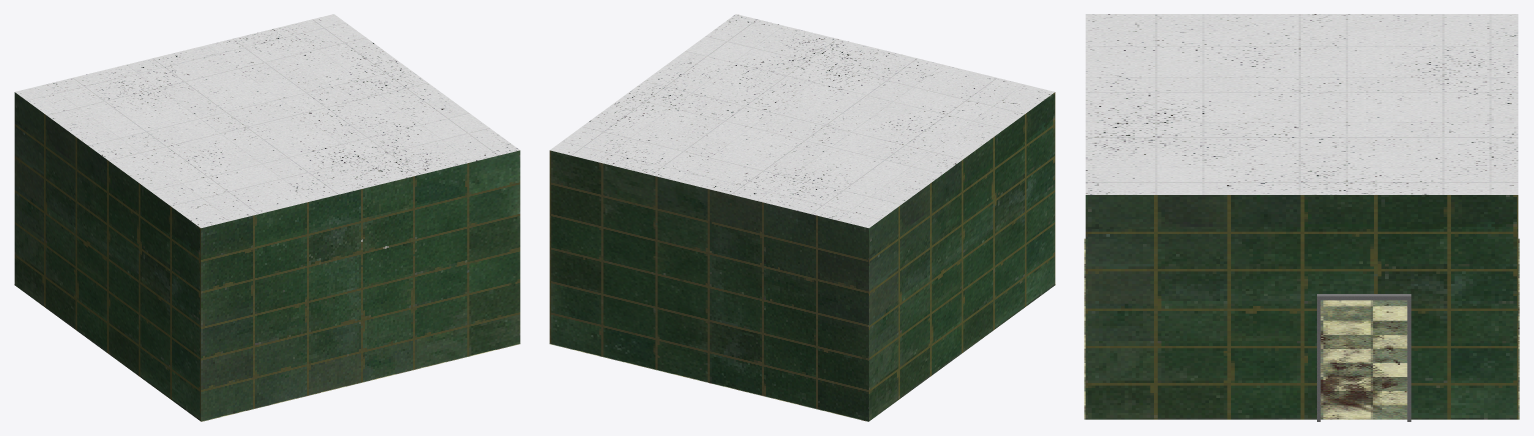
The model's file is MorgueRoom.glb.
3 views of the same model, side by side, from view 1: azimuth 30°, elevation 25°; view 2: azimuth 150°, elevation 25°; view 3: azimuth 270°, elevation 25° (orthographic). The views are drawn at different scales.
Visible parts, largest first — view 1: MorgueWalls, MorgueCieling; view 2: MorgueWalls, MorgueCieling; view 3: MorgueWalls, MorgueCieling, MorgueFloor.
Boxes of the visible parts, left/top/right/bottom form: MorgueWalls: left=14, top=92, right=520, bottom=421; MorgueCieling: left=15, top=14, right=519, bottom=227; MorgueWalls: left=549, top=92, right=1055, bottom=421; MorgueCieling: left=550, top=14, right=1054, bottom=227; MorgueWalls: left=1085, top=195, right=1518, bottom=421; MorgueCieling: left=1085, top=14, right=1518, bottom=194; MorgueFloor: left=1084, top=238, right=1519, bottom=419.
Bounding box in the file's own units: 8.07 × 4.6 × 8.09.
3 materials, 3 textured.
